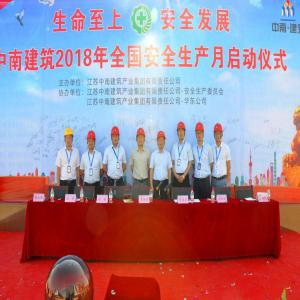red: (86, 131, 97, 154), (136, 128, 147, 150), (214, 123, 225, 145), (156, 131, 167, 152), (111, 126, 121, 148), (177, 121, 187, 143), (195, 122, 205, 143)
yellow: (64, 128, 75, 151)
